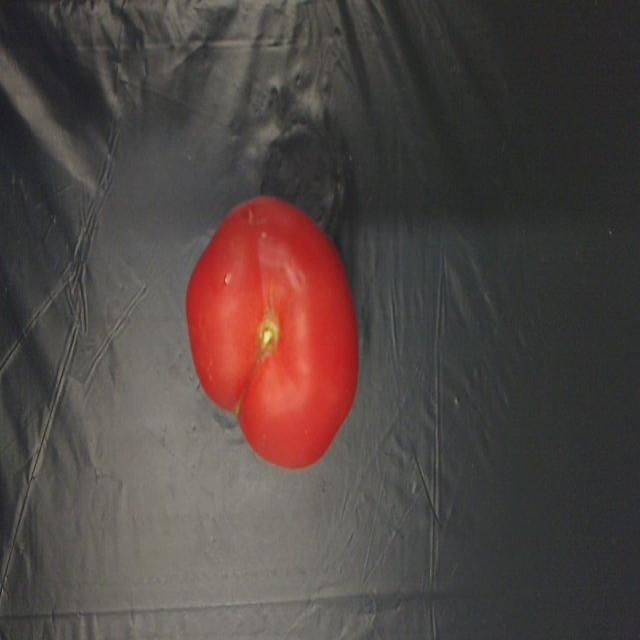kirmizi: (166, 178, 388, 488)
